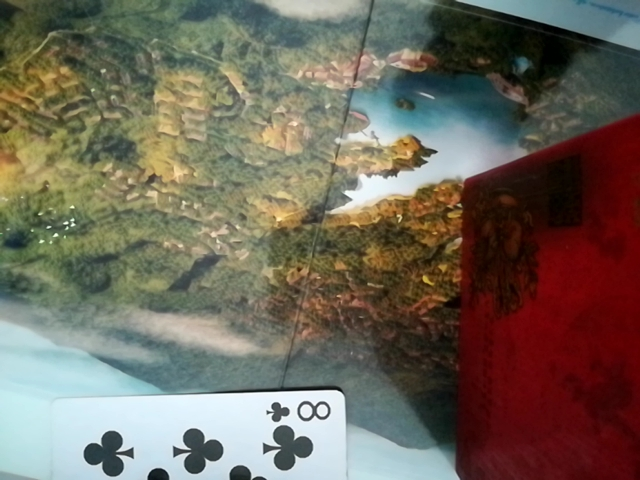mh 8: (17, 385, 364, 479)
